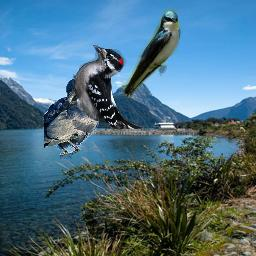Crow: (44, 78, 99, 159)
Swallow: (121, 9, 181, 100)
Woodpecker: (73, 45, 144, 129)
